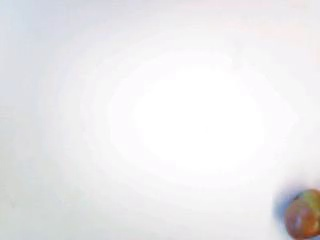apple: (285, 186, 320, 239)
